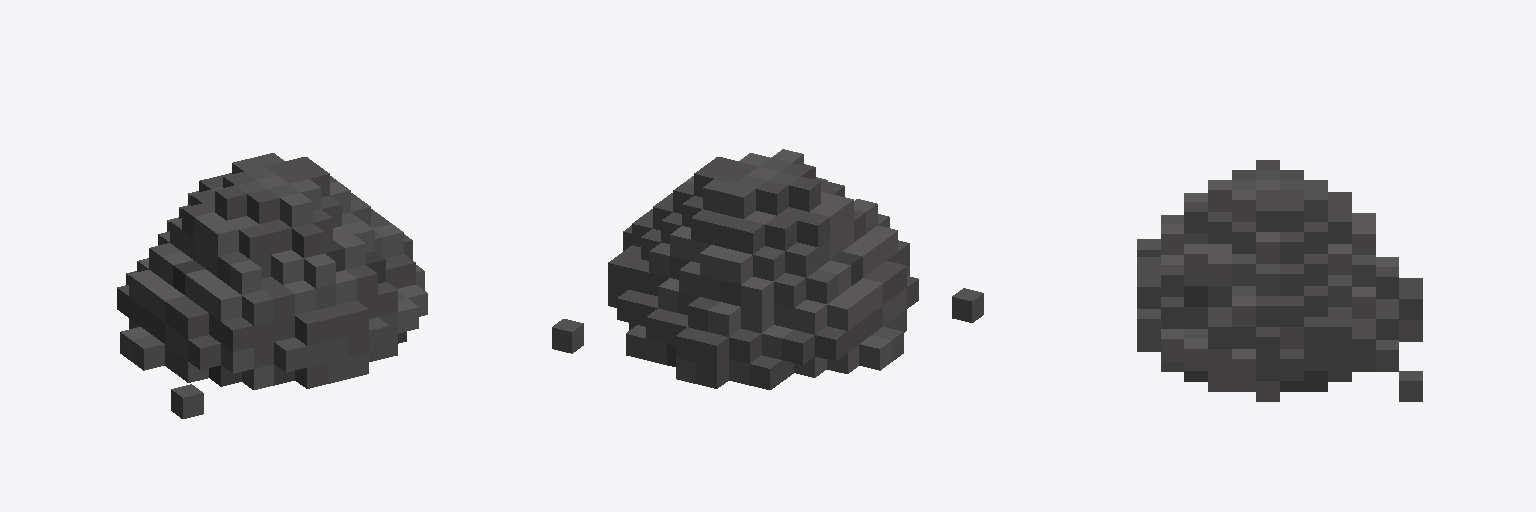
The picture shows the model from 3 angles: view 1: azimuth 30°, elevation 25°; view 2: azimuth 150°, elevation 25°; view 3: azimuth 270°, elevation 25°; orthographic projection.
Parts seen in each view (by area): view 1: object 1; view 2: object 1; view 3: object 1.
Part boxes in pixels (x1,y1,x2,y2): object 1: (117,153,427,418); object 1: (552,149,983,389); object 1: (1137,160,1422,401).
Size of the model in its own units: 1.4 by 0.7 by 1.2.
1 materials, 1 textured.